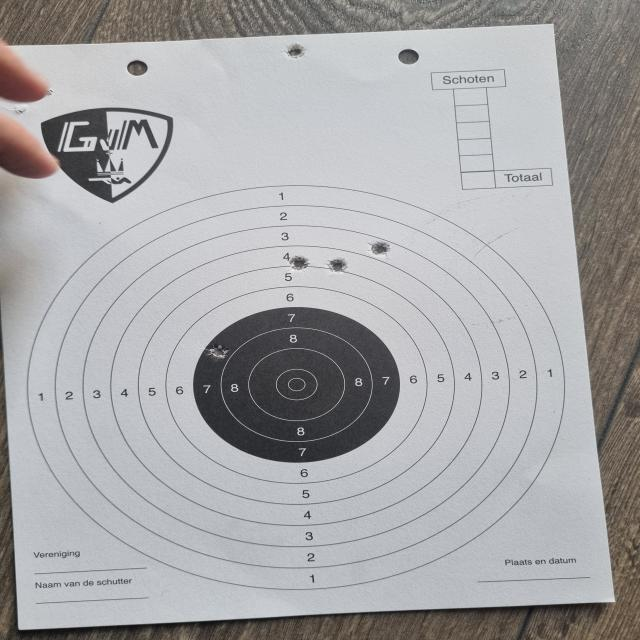0: (281, 44, 306, 58)
3: (367, 241, 390, 255)
5: (287, 256, 311, 270), (328, 258, 348, 274)
7: (203, 344, 229, 359)
Target: (28, 183, 565, 591)
black_contour: (190, 307, 400, 463)
